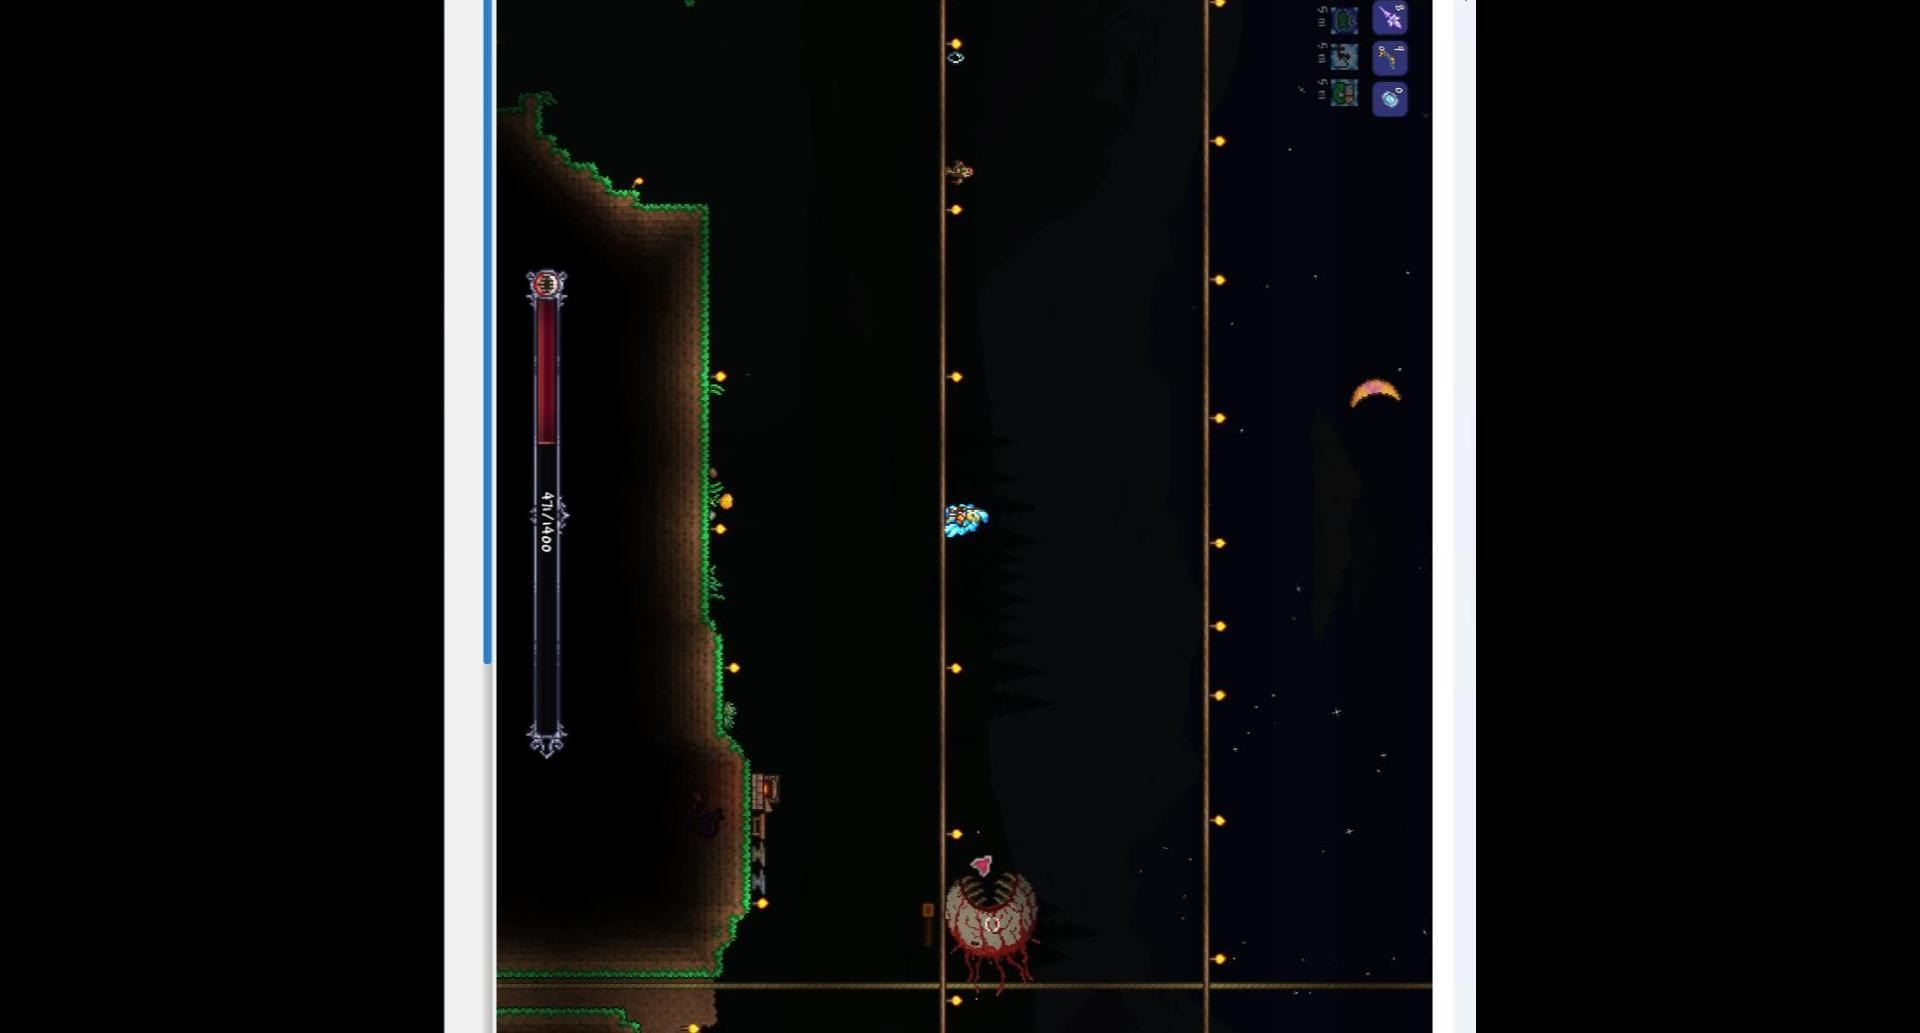anvil: (745, 868, 769, 896), (750, 838, 771, 869)
eyeC: (927, 873, 1044, 996)
lens: (946, 51, 969, 65)
